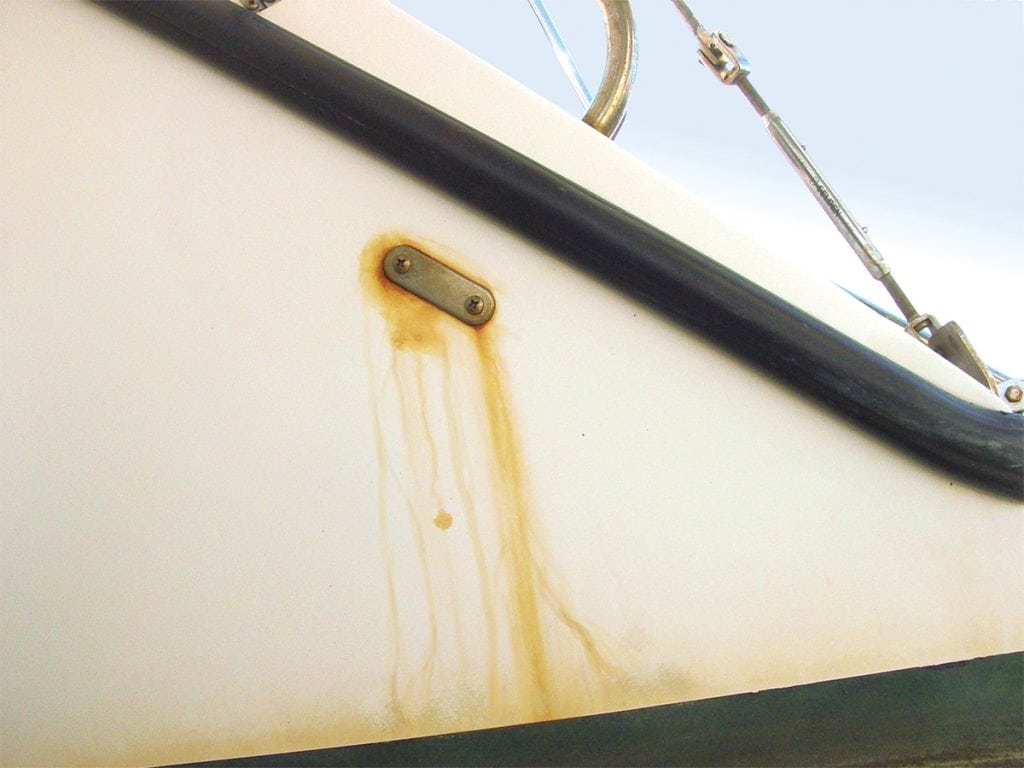rust: (368, 237, 503, 360)
